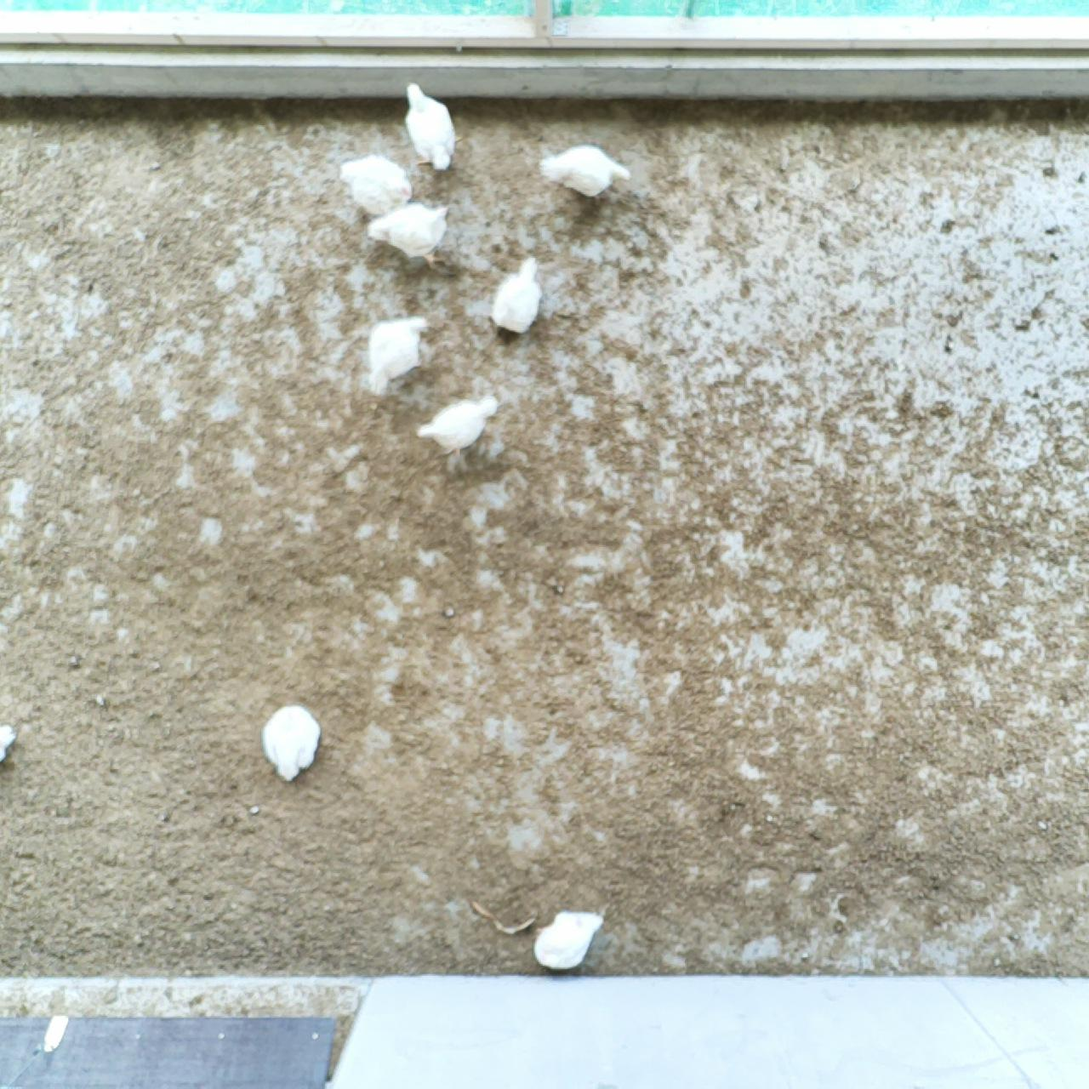chicken: (368, 198, 453, 267), (417, 392, 500, 460), (397, 81, 459, 172), (532, 142, 631, 198), (365, 315, 433, 395), (336, 151, 412, 220), (535, 908, 609, 977), (256, 704, 320, 782), (488, 256, 546, 334), (0, 716, 19, 763)
